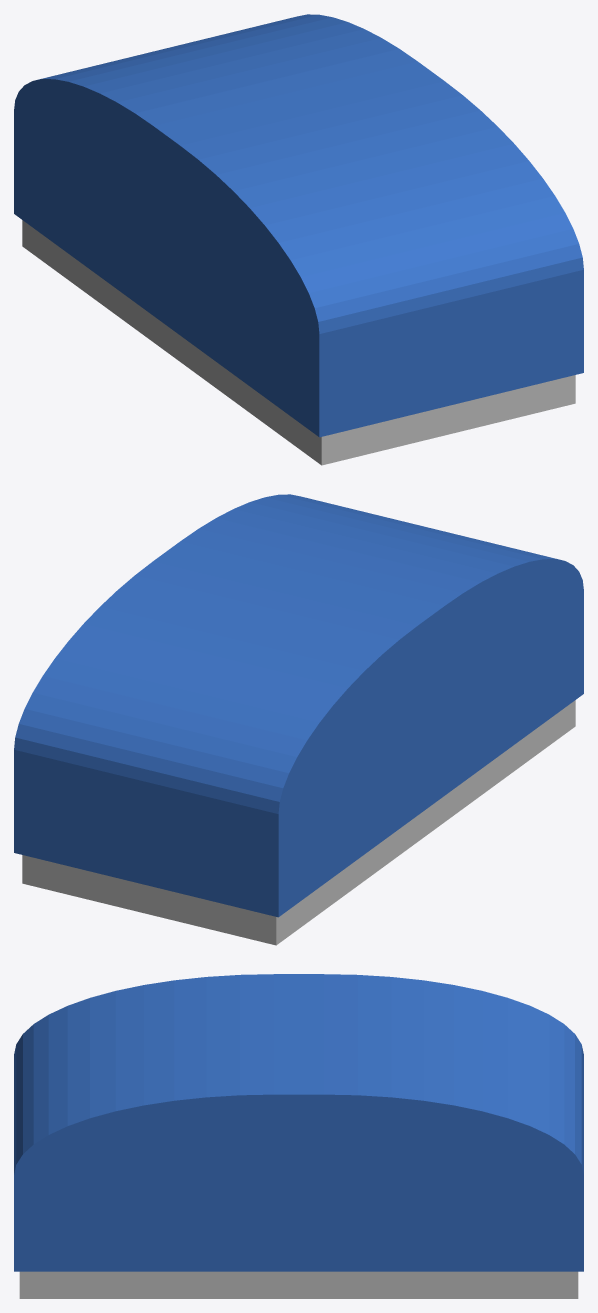
File: Eraser.fbx
The picture shows the model from 3 angles, top to bottom: view 1: azimuth 30°, elevation 25°; view 2: azimuth 150°, elevation 25°; view 3: azimuth 270°, elevation 25°; orthographic projection. The views are drawn at different scales.
Visible parts, largest first — view 1: Eraser; view 2: Eraser; view 3: Eraser.
Part boxes in pixels (bbox=[...]): Eraser: bbox=[14, 14, 583, 465]; Eraser: bbox=[14, 494, 583, 945]; Eraser: bbox=[14, 974, 583, 1298].
Size of the model in its own units: 5 by 4 by 10.
